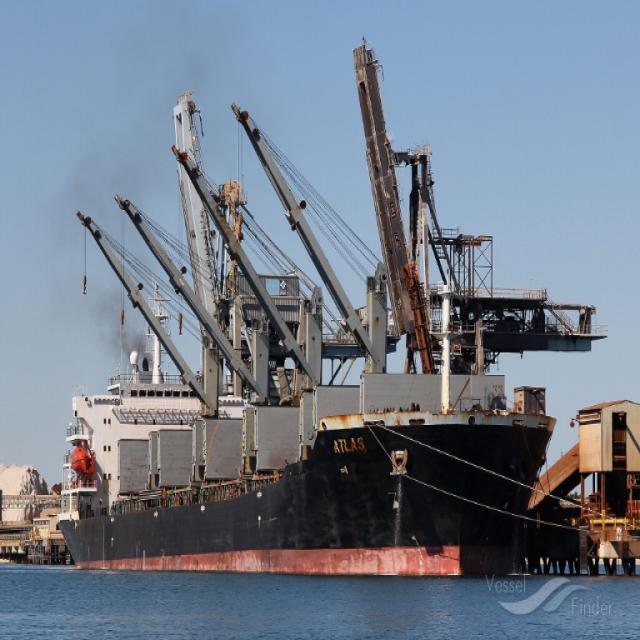OCR: (330, 432, 368, 463)
